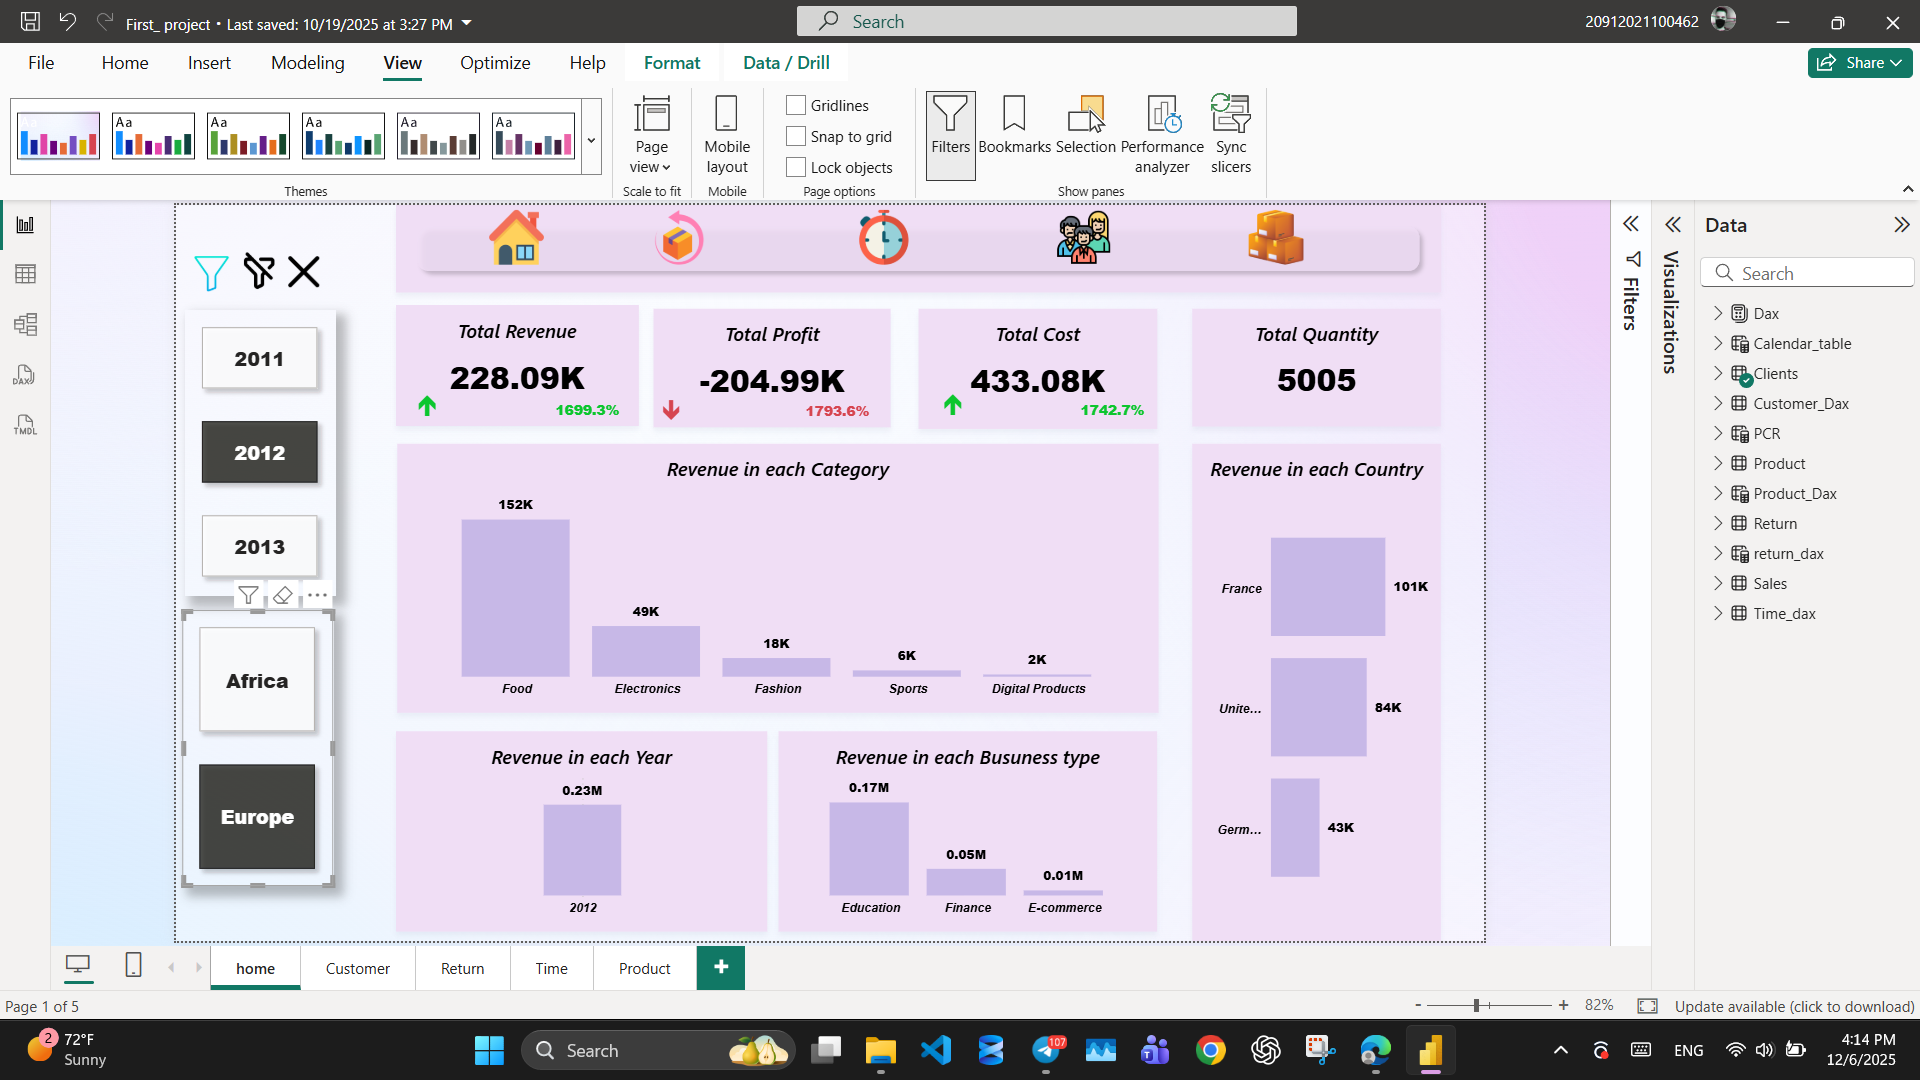

This screenshot's page, from the dashboard's own definition file:
{"tool":"powerbi","page":{"name":"home","canvas":[1280,720],"ordinal":0},"visuals":[{"type":"advancedSlicerVisual","fields":{"Values":["Calendar_table.year"]},"box":[8.6,102.7,148,280],"z":2000},{"type":"advancedSlicerVisual","fields":{"Values":["Clients.Continent"]},"box":[6.1,396.2,148,270.2],"z":3000},{"type":"shape","box":[215.2,0,1022.3,85.6],"z":4000},{"type":"image","box":[95.4,45.2,58.7,40.4],"z":5000},{"type":"image","box":[50.1,41.6,62.4,50.1],"z":6000},{"type":"image","box":[0,45.2,69.7,44],"z":7000},{"type":"image","box":[275.6,0,116.7,63.3],"z":8000},{"type":"image","box":[815.6,0,145.5,63.6],"z":9000},{"type":"image","box":[624.4,0,135.3,63.3],"z":10000},{"type":"image","box":[430.4,0,124.7,63.6],"z":11000},{"type":"image","box":[1015.4,0,122.9,63.3],"z":12000},{"type":"card","title":"Total Revenue","fields":{"Values":["Dax.total _revenue"]},"box":[215.2,97.8,237.2,118.6],"z":13000},{"type":"card","title":"Total Revenue","fields":{"Values":["Dax.Show_Variance_revenue"]},"box":[357.1,177.3,90.5,50.1],"z":14000},{"type":"card","title":"Total Revenue","fields":{"Values":["Dax.Arrow_revenue"]},"box":[214,165.1,63.6,63.6],"z":15000},{"type":"card","title":"Total Profit","fields":{"Values":["Dax.total_profit"]},"box":[467.1,101.5,232.3,116.2],"z":16000},{"type":"card","title":"Total Revenue","fields":{"Values":["Dax.Show_Variance_profit"]},"box":[601.6,178.5,90.5,50.1],"z":17000},{"type":"card","title":"Total Revenue","fields":{"Values":["Dax.Arrow_profit"]},"box":[452.4,170,63.6,63.6],"z":18000},{"type":"card","title":"Total Cost","fields":{"Values":["Dax.total_cost"]},"box":[726.4,101.5,233.6,117.4],"z":19000},{"type":"card","title":"Total Revenue","fields":{"Values":["Dax.Show_Variance_cost"]},"box":[870.7,177.3,90.5,50.1],"z":20000},{"type":"card","title":"Total Revenue","fields":{"Values":["Dax.Arrow_cost"]},"box":[725.1,171.2,69.7,50.1],"z":21000},{"type":"card","title":"Total Quantity","fields":{"Values":["Dax.total_qty"]},"box":[994.2,101.5,243.3,114.9],"z":22000},{"type":"clusteredColumnChart","title":"Revenue in each Category","fields":{"Category":["Product.CategoryName"],"Y":["Dax.total _revenue"]},"box":[216.4,233.6,744.7,262.9],"z":23000},{"type":"clusteredBarChart","title":"Revenue in each Country","fields":{"Category":["Clients.CountryName"],"Y":["Dax.total _revenue"]},"box":[994.2,233.6,243.3,486.7],"z":24000},{"type":"clusteredColumnChart","title":"Revenue in each Year","fields":{"Y":["Dax.total _revenue"],"Category":["Calendar_table.year"]},"box":[215.2,514.8,363.2,195.7],"z":25000},{"type":"clusteredColumnChart","title":"Revenue in each Busuness type","fields":{"Category":["Clients.BusinessType"],"Y":["Dax.total _revenue"]},"box":[589.4,514.8,370.5,195.7],"z":26000}]}

Visuals, with their boxes on the page's 1280x720 design canvas (x1, y1, x2, y2). These are canvas units, not pixel positions in the 1920x1080 screenshot, which may show the page scaled, cropped or inside an application window:
advancedSlicerVisual - Calendar_table.year: {"left": 9, "top": 103, "right": 157, "bottom": 383}
advancedSlicerVisual - Clients.Continent: {"left": 6, "top": 396, "right": 154, "bottom": 666}
shape: {"left": 215, "top": 0, "right": 1238, "bottom": 86}
image: {"left": 95, "top": 45, "right": 154, "bottom": 86}
image: {"left": 50, "top": 42, "right": 112, "bottom": 92}
image: {"left": 0, "top": 45, "right": 70, "bottom": 89}
image: {"left": 276, "top": 0, "right": 392, "bottom": 63}
image: {"left": 816, "top": 0, "right": 961, "bottom": 64}
image: {"left": 624, "top": 0, "right": 760, "bottom": 63}
image: {"left": 430, "top": 0, "right": 555, "bottom": 64}
image: {"left": 1015, "top": 0, "right": 1138, "bottom": 63}
"Total Revenue" card: {"left": 215, "top": 98, "right": 452, "bottom": 216}
"Total Revenue" card: {"left": 357, "top": 177, "right": 448, "bottom": 227}
"Total Revenue" card: {"left": 214, "top": 165, "right": 278, "bottom": 229}
"Total Profit" card: {"left": 467, "top": 102, "right": 699, "bottom": 218}
"Total Revenue" card: {"left": 602, "top": 178, "right": 692, "bottom": 229}
"Total Revenue" card: {"left": 452, "top": 170, "right": 516, "bottom": 234}
"Total Cost" card: {"left": 726, "top": 102, "right": 960, "bottom": 219}
"Total Revenue" card: {"left": 871, "top": 177, "right": 961, "bottom": 227}
"Total Revenue" card: {"left": 725, "top": 171, "right": 795, "bottom": 221}
"Total Quantity" card: {"left": 994, "top": 102, "right": 1238, "bottom": 216}
"Revenue in each Category" clusteredColumnChart: {"left": 216, "top": 234, "right": 961, "bottom": 496}
"Revenue in each Country" clusteredBarChart: {"left": 994, "top": 234, "right": 1238, "bottom": 720}
"Revenue in each Year" clusteredColumnChart: {"left": 215, "top": 515, "right": 578, "bottom": 710}
"Revenue in each Busuness type" clusteredColumnChart: {"left": 589, "top": 515, "right": 960, "bottom": 710}
